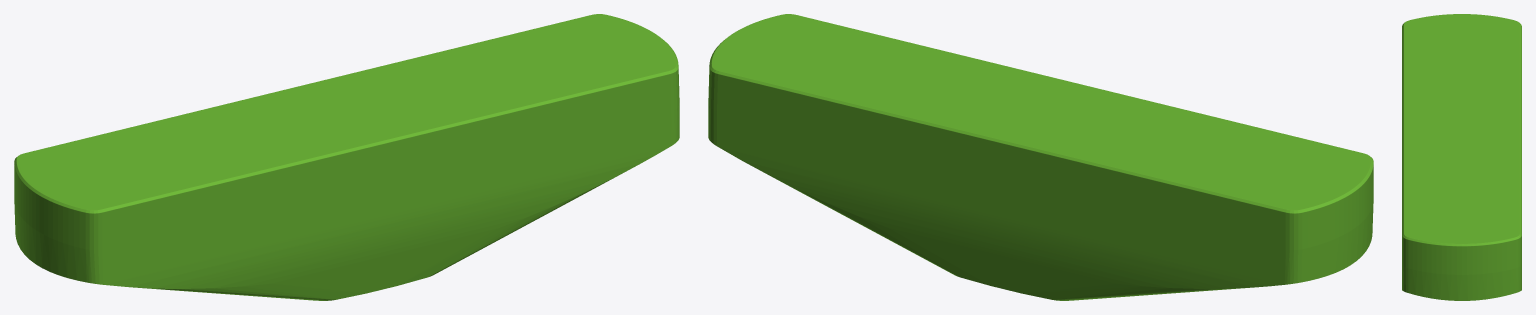
Rendered from camera_hull.dae.
The picture shows the model from 3 angles, left to right: view 1: azimuth 30°, elevation 25°; view 2: azimuth 150°, elevation 25°; view 3: azimuth 270°, elevation 25°; orthographic projection. The views are drawn at different scales.
Parts seen in each view (by area): view 1: node; view 2: node; view 3: node.
Part boxes in pixels (<box>): node: <box>14,14,679,300</box>; node: <box>708,14,1373,300</box>; node: <box>1402,14,1521,300</box>.
Size of the model in its own units: 0.2384 by 0.052 by 0.0572.
